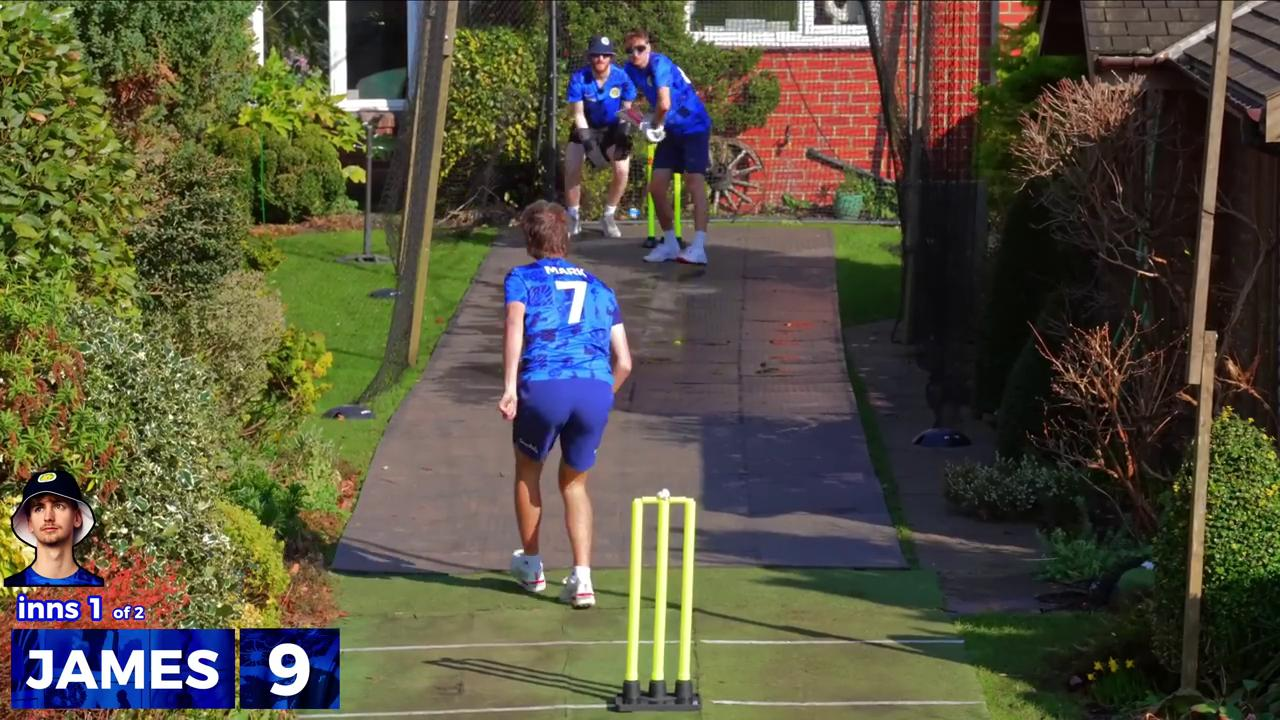ball: (624, 202, 646, 221)
